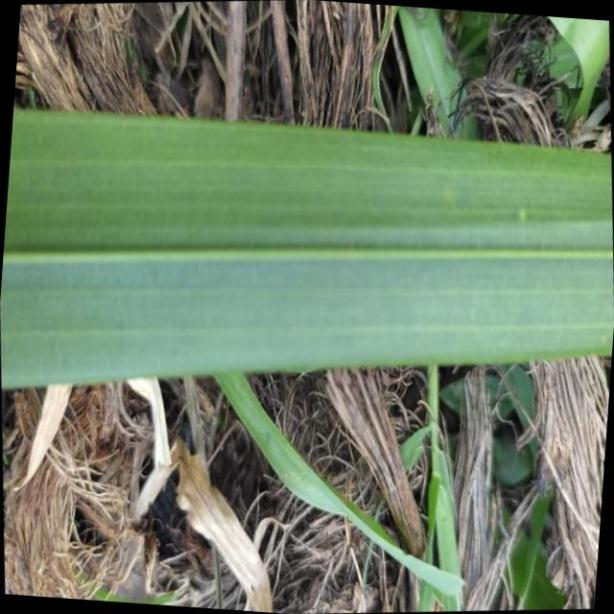Healthy: (5, 109, 614, 391)
